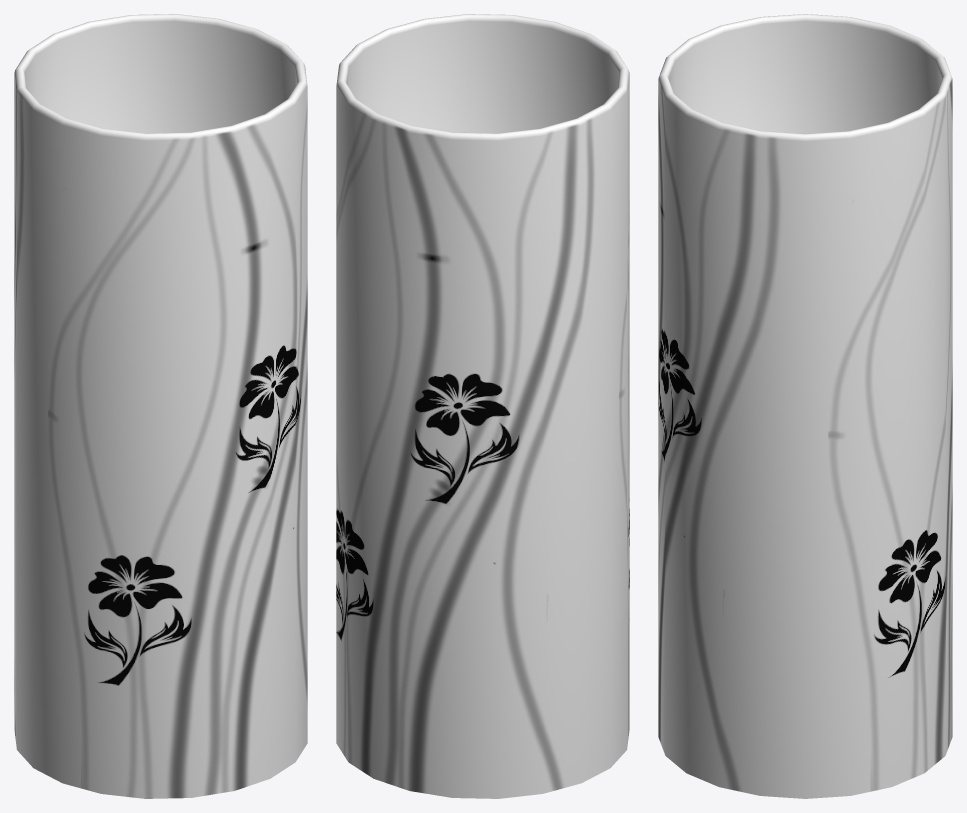
Rendered from Vase01_1.FBX.
3 renders of one model, left to right at view 1: azimuth 30°, elevation 25°; view 2: azimuth 150°, elevation 25°; view 3: azimuth 270°, elevation 25°, orthographic.
Parts seen in each view (by area): view 1: Vase01_1; view 2: Vase01_1; view 3: Vase01_1.
Boxes of the visible parts, x1,y1,x2,y2 form: Vase01_1: (14, 14, 307, 798); Vase01_1: (336, 14, 629, 798); Vase01_1: (658, 14, 952, 798).
Bounding box in the file's own units: 18 × 44.68 × 18.
